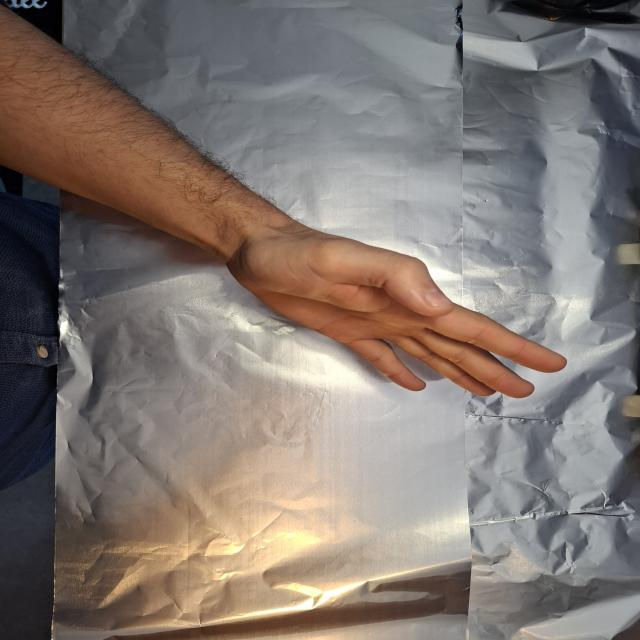glove_off: (209, 202, 572, 401)
